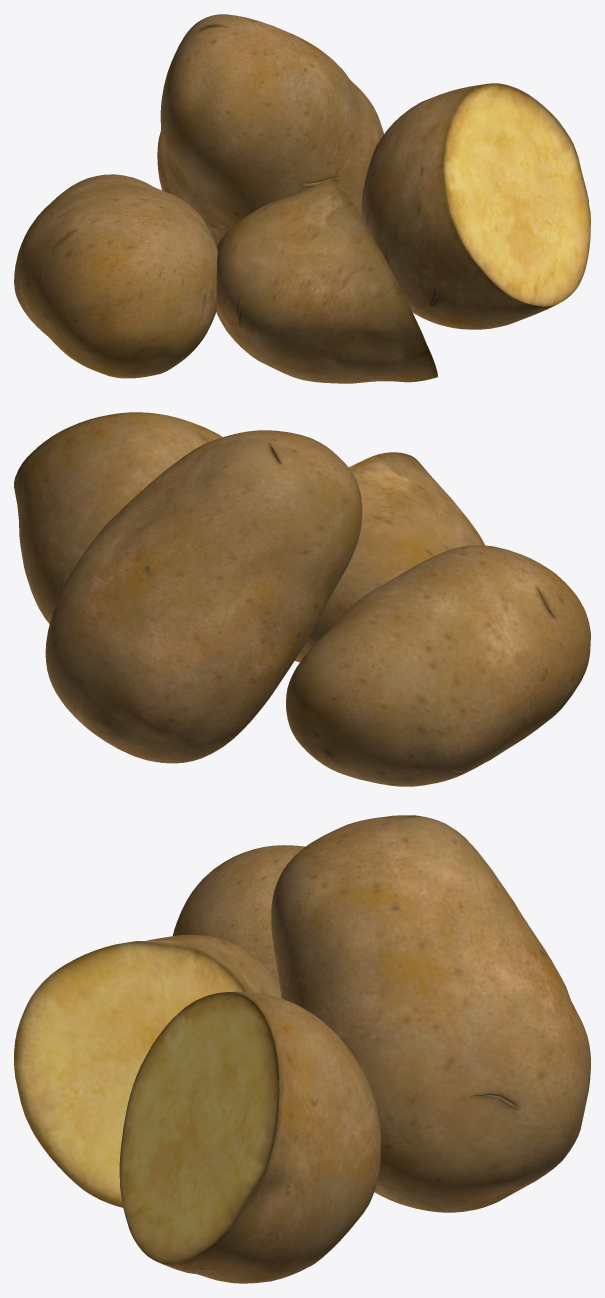
Rendered from Kartoshka.fbx.
3 renders of one model, top to bottom at view 1: azimuth 30°, elevation 25°; view 2: azimuth 150°, elevation 25°; view 3: azimuth 270°, elevation 25°, orthographic. The views are drawn at different scales.
Visible parts, largest first — view 1: Open3DModel (1) (2); view 2: Open3DModel (1) (2); view 3: Open3DModel (1) (2).
Part boxes in pixels (box(x1,y1,x2,y2)): Open3DModel (1) (2): box(14, 14, 590, 383); Open3DModel (1) (2): box(14, 412, 590, 786); Open3DModel (1) (2): box(14, 815, 590, 1283).
Bounding box in the file's own units: 731 × 385 × 583.
1 material, 1 textured.
